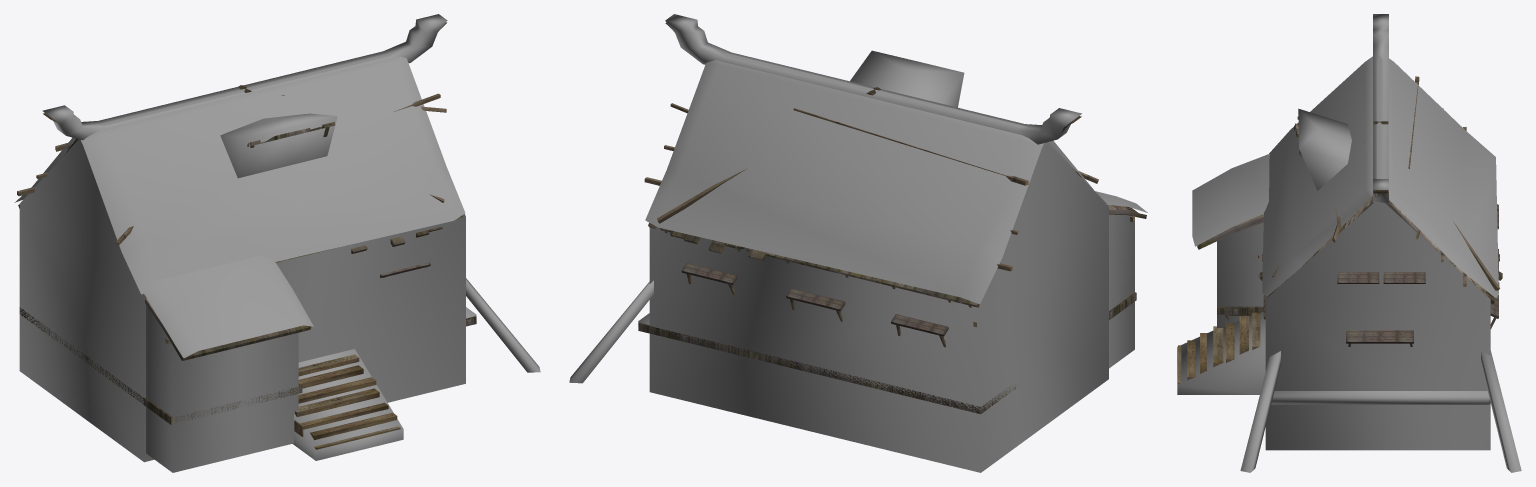
Rendered from Scene_Build_XuanWuShan_CaoWu_1.FBX.
3 views of the same model, side by side, from view 1: azimuth 30°, elevation 25°; view 2: azimuth 150°, elevation 25°; view 3: azimuth 270°, elevation 25° (orthographic). The views are drawn at different scales.
Parts seen in each view (by area): view 1: Scene_Build_XuanWuShan_CaoWu_1_Xcm, Scene_Build_XuanWuShan_CaoWu_1d, Scene_Build_XuanWuShan_CaoWu_1b, Scene_Build_XuanWuShan_CaoWu_1c; view 2: Scene_Build_XuanWuShan_CaoWu_1_Xcm, Scene_Build_XuanWuShan_CaoWu_1b, Scene_Build_XuanWuShan_CaoWu_1c; view 3: Scene_Build_XuanWuShan_CaoWu_1_Xcm, Scene_Build_XuanWuShan_CaoWu_1c, Scene_Build_XuanWuShan_CaoWu_1d, Scene_Build_XuanWuShan_CaoWu_1b, Scene_Build_XuanWuShan_CaoWu_1a.
Boxes of the visible parts, <box> form: Scene_Build_XuanWuShan_CaoWu_1_Xcm: <box>14,14,540,472</box>; Scene_Build_XuanWuShan_CaoWu_1d: <box>43,22,446,449</box>; Scene_Build_XuanWuShan_CaoWu_1b: <box>18,122,476,424</box>; Scene_Build_XuanWuShan_CaoWu_1c: <box>17,93,446,343</box>; Scene_Build_XuanWuShan_CaoWu_1_Xcm: <box>569,14,1147,472</box>; Scene_Build_XuanWuShan_CaoWu_1b: <box>638,209,1146,414</box>; Scene_Build_XuanWuShan_CaoWu_1c: <box>644,103,1134,347</box>; Scene_Build_XuanWuShan_CaoWu_1_Xcm: <box>1177,14,1521,472</box>; Scene_Build_XuanWuShan_CaoWu_1c: <box>1225,76,1499,346</box>; Scene_Build_XuanWuShan_CaoWu_1d: <box>1178,121,1388,383</box>; Scene_Build_XuanWuShan_CaoWu_1b: <box>1197,123,1502,403</box>; Scene_Build_XuanWuShan_CaoWu_1a: <box>1229,196,1486,292</box>.
Bounding box in the file's own units: 1052 × 740 × 826.
